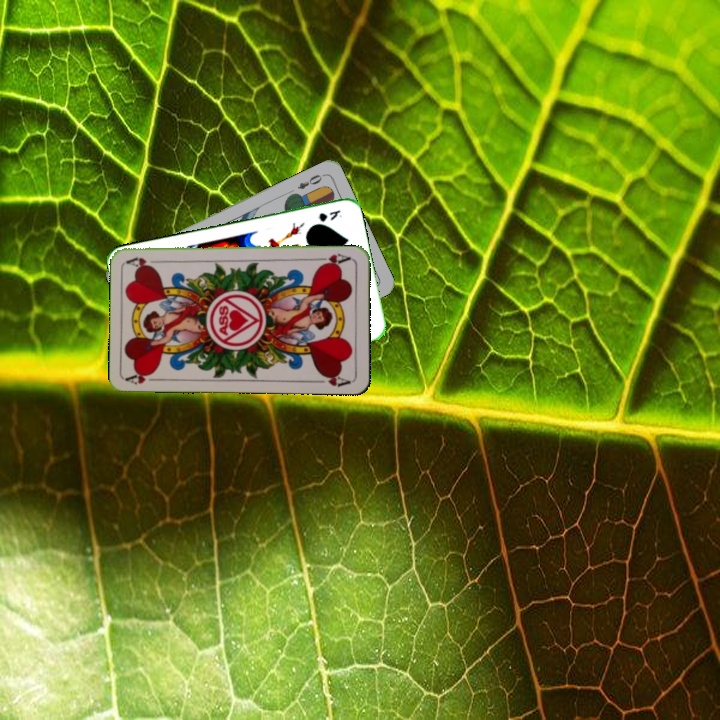EO: (293, 170, 327, 192)
GK: (313, 206, 345, 224)
HA: (124, 368, 164, 387), (314, 249, 353, 268)
